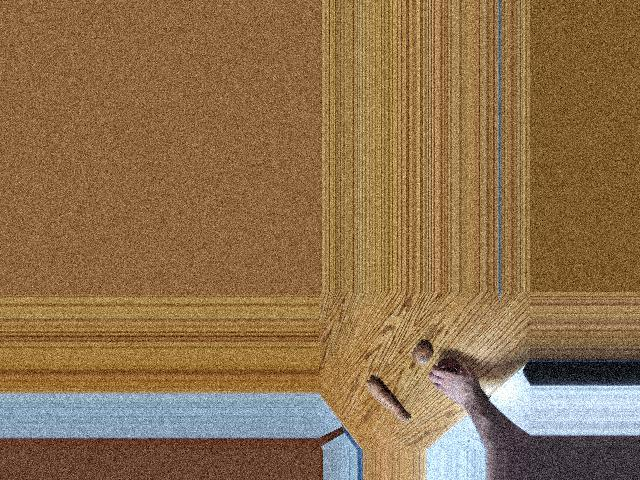onion: (437, 359, 458, 380)
